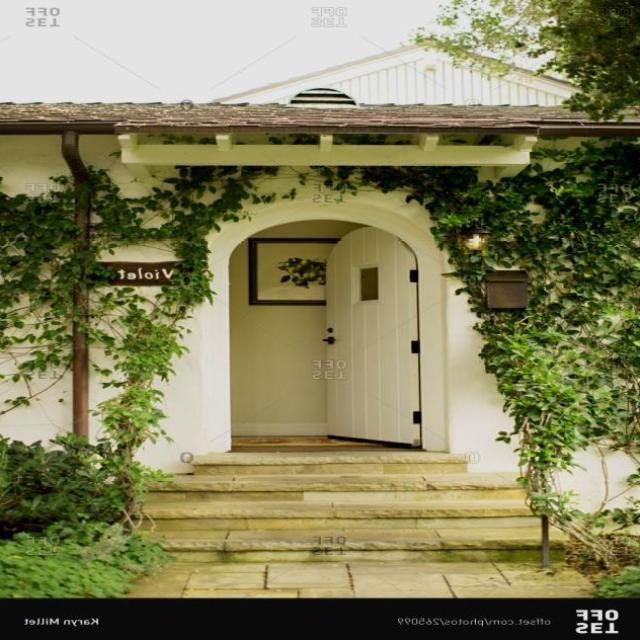door: (323, 225, 421, 447)
